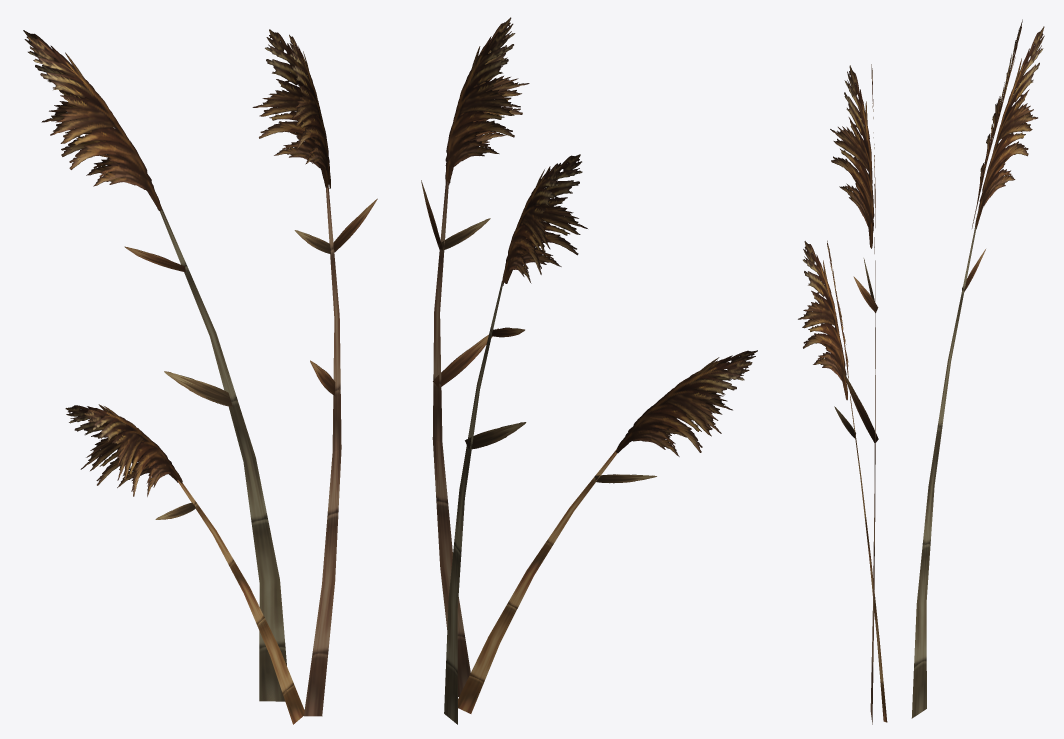
Rendered from luwei_05.FBX.
3 views of the same model, side by side, from view 1: azimuth 30°, elevation 25°; view 2: azimuth 150°, elevation 25°; view 3: azimuth 270°, elevation 25° (orthographic). The views are drawn at different scales.
Parts seen in each view (by area): view 1: luwei_05; view 2: luwei_05; view 3: luwei_05.
Part boxes in pixels (<box>): luwei_05: <box>23,29,377,724</box>; luwei_05: <box>421,17,757,724</box>; luwei_05: <box>798,19,1044,724</box>.
Size of the model in its own units: 53.38 by 107 by 38.08.
